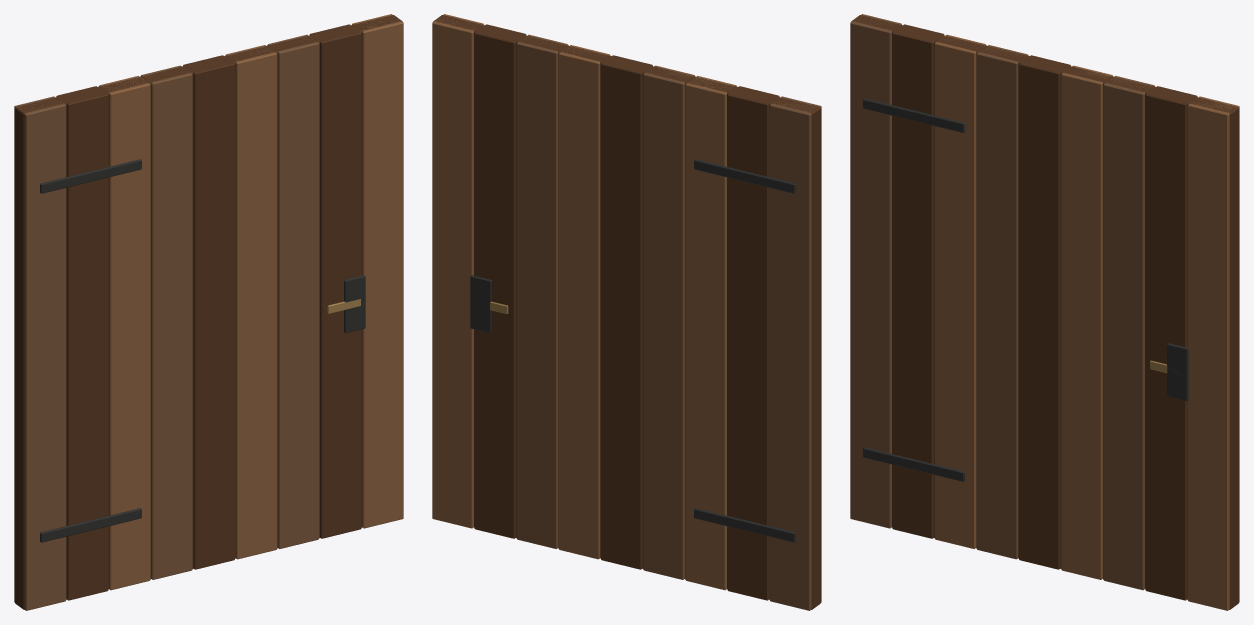
The model's file is oak_door.glb.
3 renders of one model, left to right at view 1: azimuth 30°, elevation 25°; view 2: azimuth 150°, elevation 25°; view 3: azimuth 330°, elevation 25°, orthographic.
Parts seen in each view (by area): view 1: oak_door; view 2: oak_door; view 3: oak_door.
Part boxes in pixels (x1=…): oak_door: x1=14, y1=14, x2=403, y2=610; oak_door: x1=432, y1=14, x2=821, y2=610; oak_door: x1=850, y1=14, x2=1239, y2=610.
Size of the model in its own units: 1.8 by 2.25 by 0.12.
